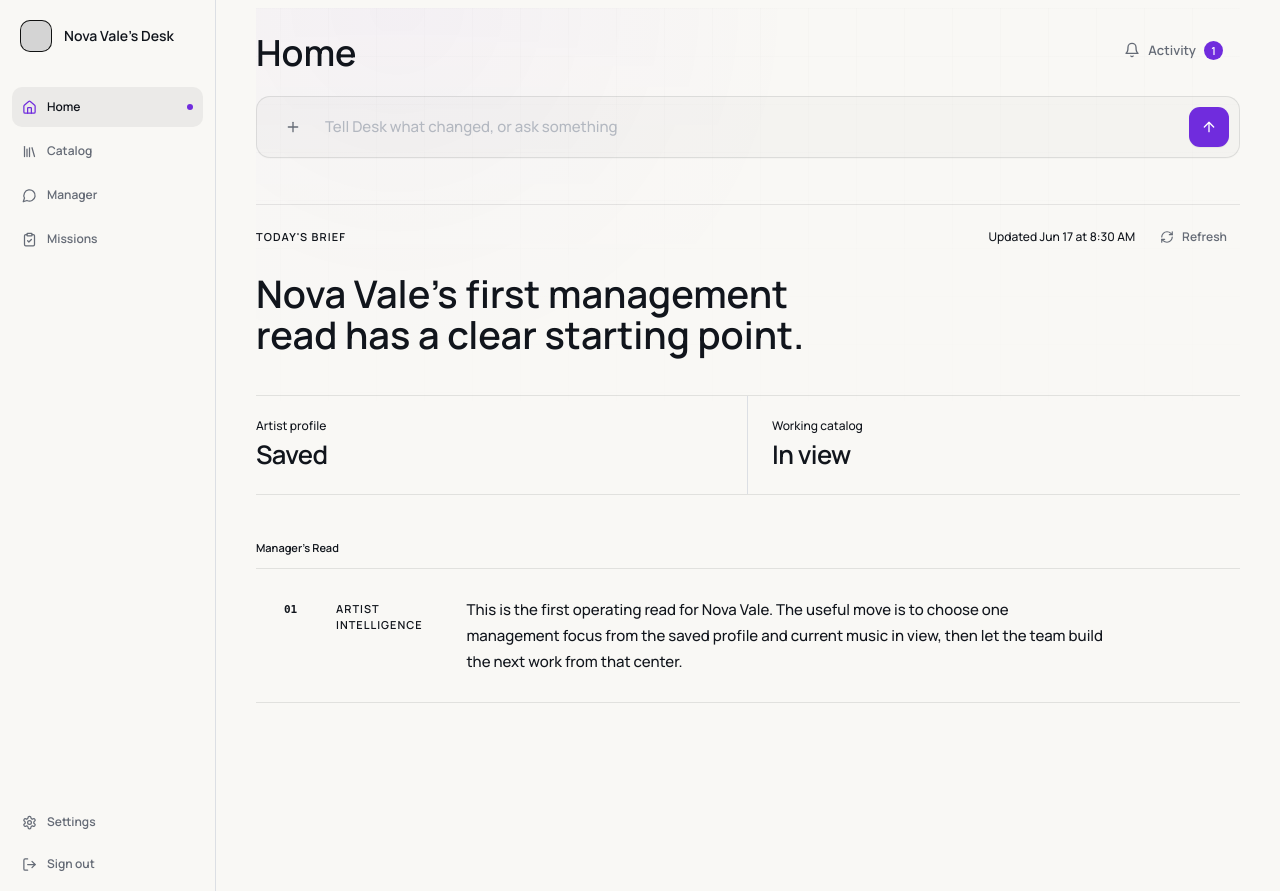
Clean production prototype-match shell › saves Settings profile edits through the dedicated profile service without re-entering setup
Expected: the heading "Home" is shown, top-left (256, 34), bottom-right (356, 72)
Click the button "Settings".
click(108, 822)  # box top-left (12, 802), bottom-right (203, 842)
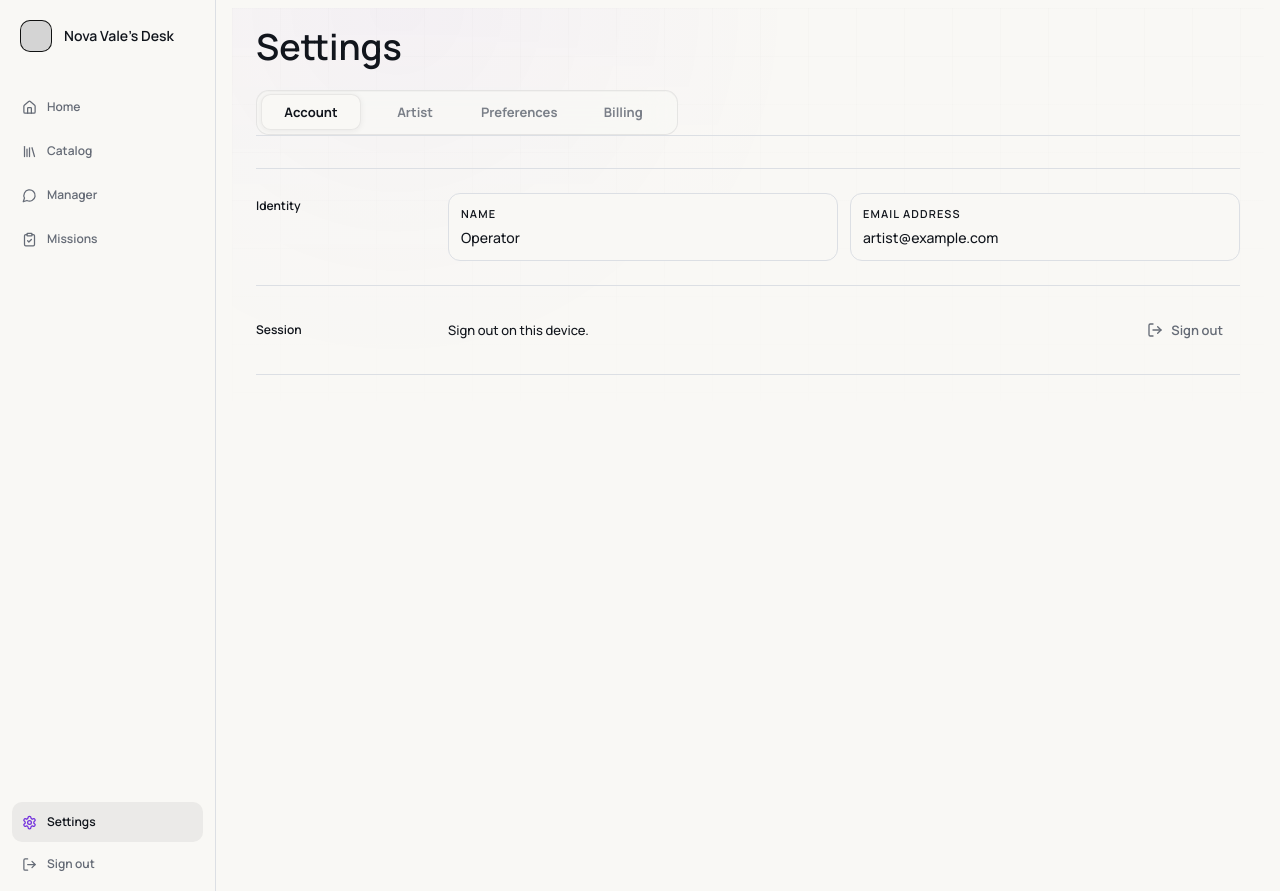
Click the tab "Artist".
click(415, 112)  # box top-left (365, 94), bottom-right (466, 130)
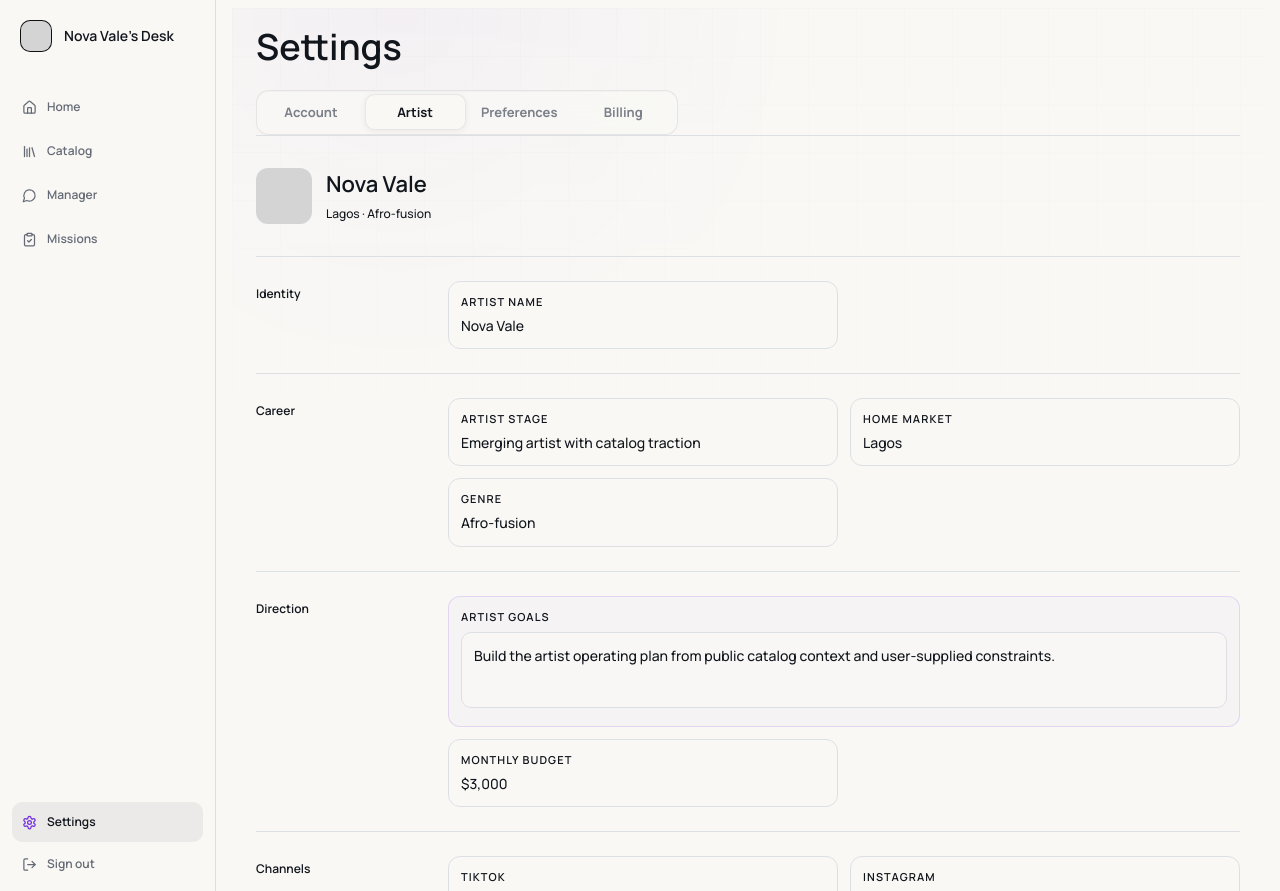
Replace the text in the text box labelled "Artist goals" with "Build a durable audience operating system." at coordinates (844, 670), box top-left (461, 632), bottom-right (1227, 708)
(page scrolled)
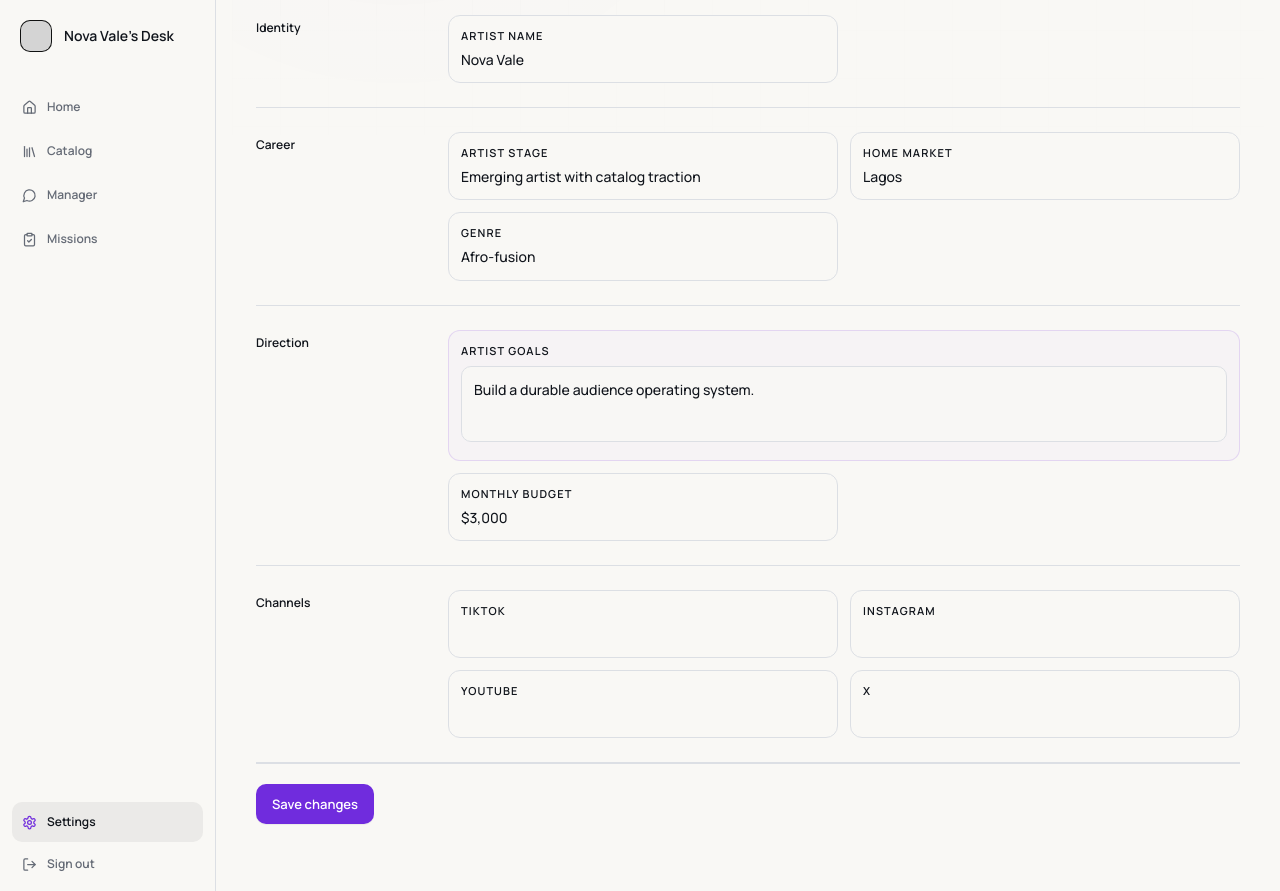
Click the button "Save changes".
click(315, 804)  # box top-left (256, 784), bottom-right (374, 824)
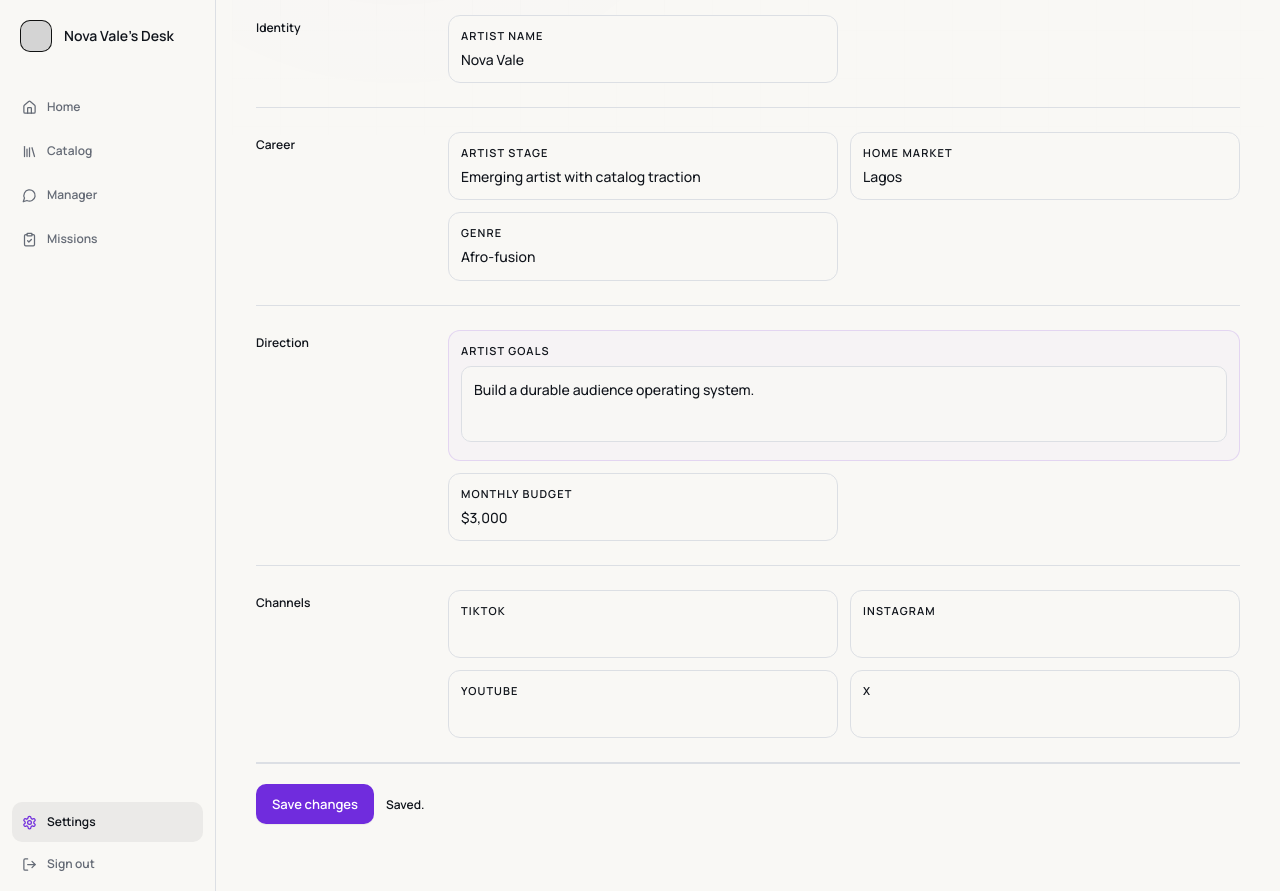
Result: the text "Saved." is shown at top-left (386, 796), bottom-right (424, 813)
